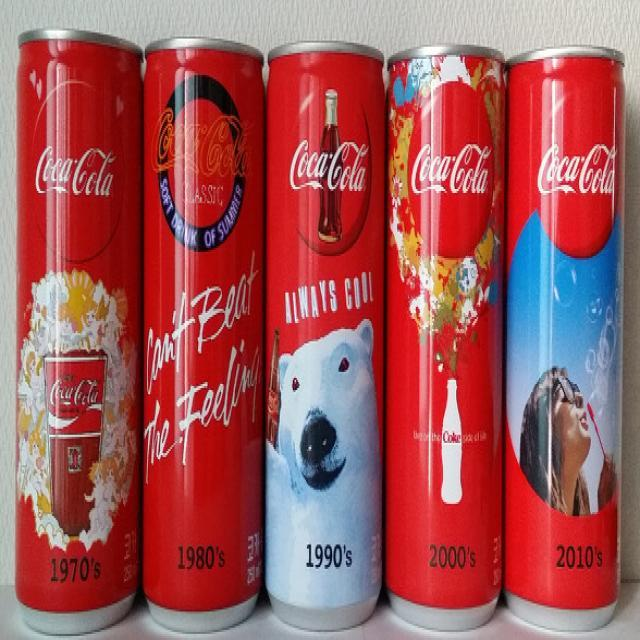coca-cola: (15, 22, 142, 636), (142, 33, 266, 634), (266, 32, 386, 628), (506, 41, 626, 631), (386, 42, 506, 626)
